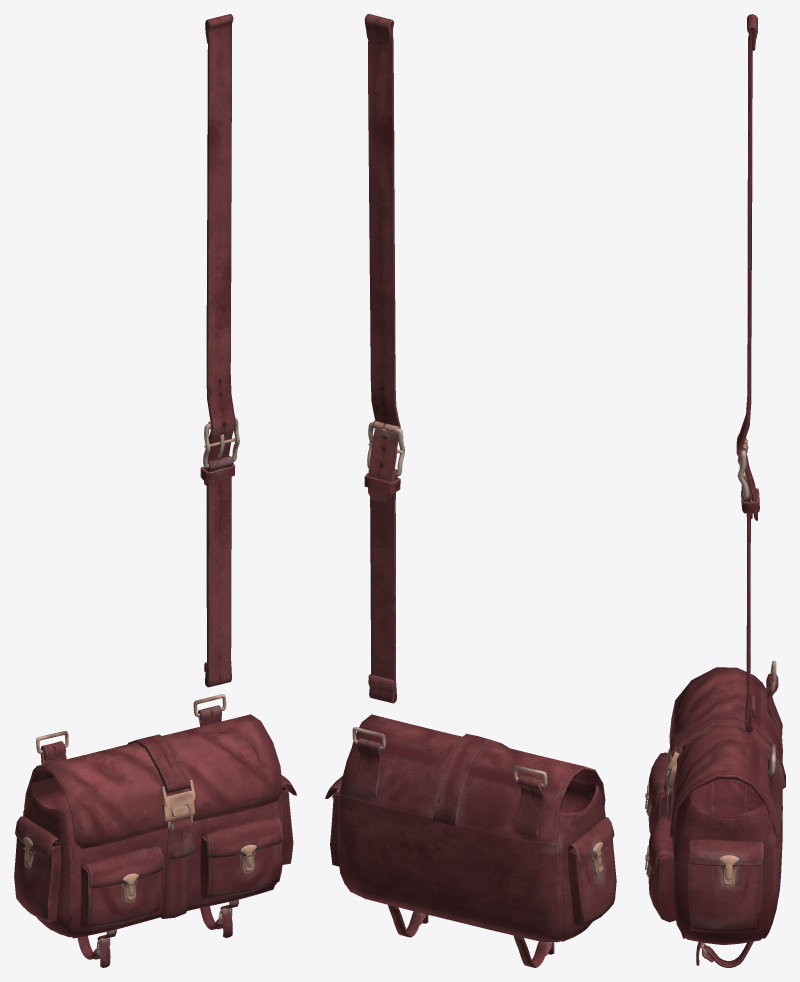
The picture shows the model from 3 angles, left to right: view 1: azimuth 30°, elevation 25°; view 2: azimuth 150°, elevation 25°; view 3: azimuth 270°, elevation 25°; orthographic projection. The views are drawn at different scales.
Visible parts, largest first — view 1: Bag_low, BackBelt_low; view 2: Bag_low, BackBelt_low; view 3: Bag_low, BackBelt_low.
Boxes of the visible parts, x1=… form: Bag_low: x1=14, y1=694, x2=296, y2=967; BackBelt_low: x1=200, y1=14, x2=239, y2=687; Bag_low: x1=325, y1=714, x2=616, y2=967; BackBelt_low: x1=364, y1=14, x2=404, y2=703; Bag_low: x1=645, y1=660, x2=785, y2=967; BackBelt_low: x1=736, y1=14, x2=759, y2=732.
Size of the model in its own units: 0.4792 by 1.56 by 0.2081.
1 material, 1 textured.
